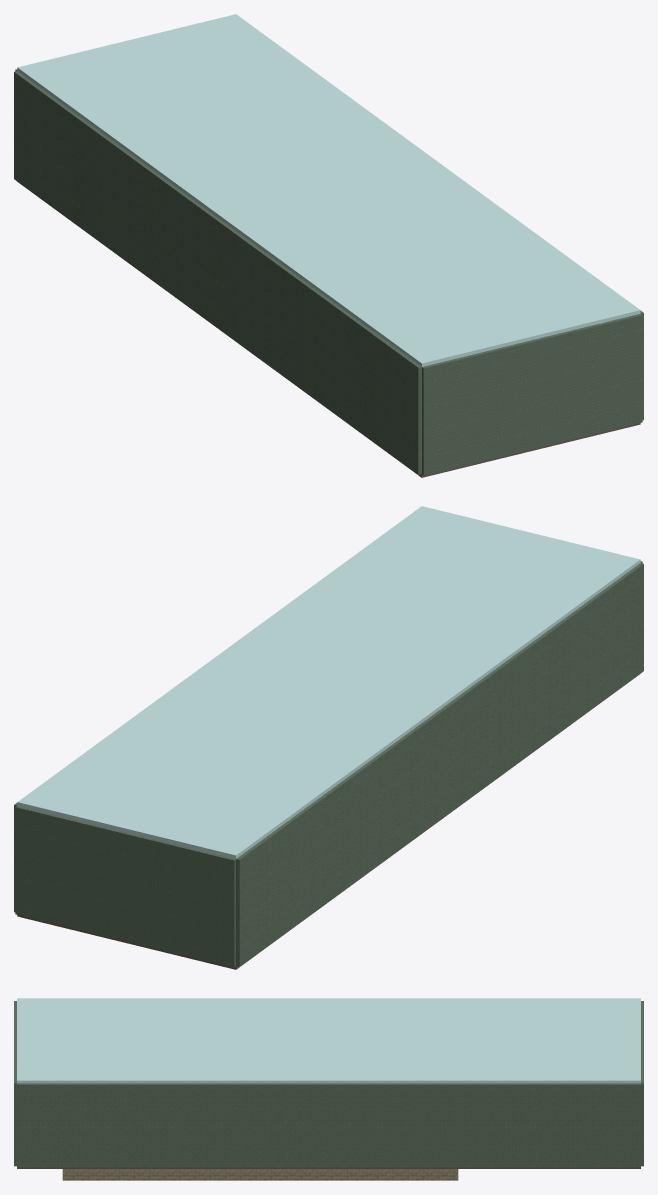
The model's file is space06.glb.
The picture shows the model from 3 angles, top to bottom: view 1: azimuth 30°, elevation 25°; view 2: azimuth 150°, elevation 25°; view 3: azimuth 270°, elevation 25°; orthographic projection. The views are drawn at different scales.
Visible parts, largest first — view 1: space06_static; view 2: space06_static; view 3: space06_static.
Part boxes in pixels (<box>): space06_static: <box>14,14,643,477</box>; space06_static: <box>14,506,643,969</box>; space06_static: <box>14,998,643,1180</box>.
Size of the model in its own units: 13.2 by 7.9 by 41.4.
Materials: 10 (4 with a texture image).
